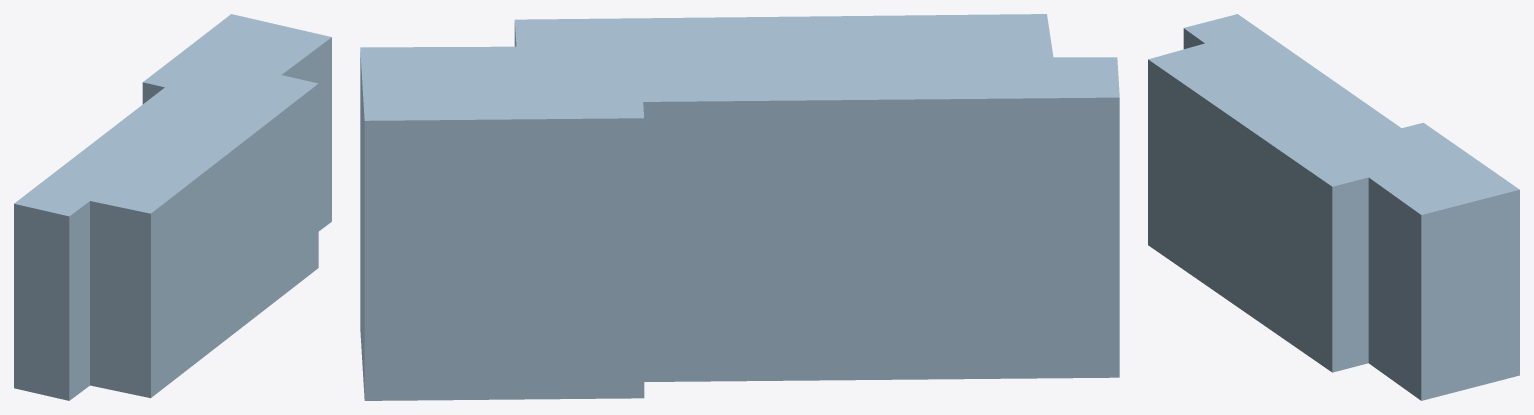
File: osm_way_225198912.glb
3 views of the same model, side by side, from view 1: azimuth 30°, elevation 25°; view 2: azimuth 150°, elevation 25°; view 3: azimuth 270°, elevation 25° (orthographic). The views are drawn at different scales.
Parts seen in each view (by area): view 1: osm_way_225198912; view 2: osm_way_225198912; view 3: osm_way_225198912.
Part boxes in pixels (bbox=[...]): osm_way_225198912: bbox=[14, 14, 331, 400]; osm_way_225198912: bbox=[360, 14, 1119, 400]; osm_way_225198912: bbox=[1148, 14, 1519, 400].
Bounding box in the file's own units: 44.55 × 19.2 × 34.8.
